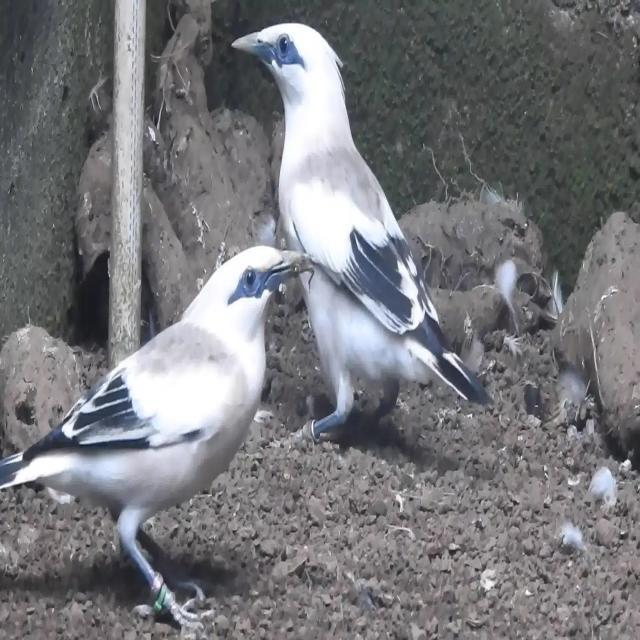Jalak Bali: (0, 210, 333, 639), (224, 1, 492, 460)
